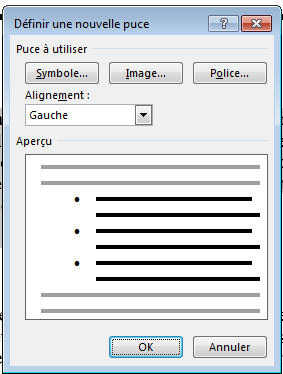texte: (25, 91, 89, 101), (76, 19, 120, 28), (16, 137, 52, 147), (209, 343, 250, 351), (30, 111, 68, 119), (53, 45, 87, 53), (124, 22, 149, 31), (17, 45, 40, 53), (15, 19, 35, 28), (88, 81, 94, 109), (138, 343, 153, 351), (53, 22, 72, 28), (43, 34, 46, 62), (140, 113, 147, 117), (178, 353, 180, 355)
